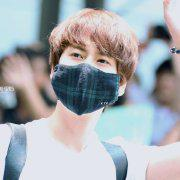OK: (56, 44, 124, 112)
